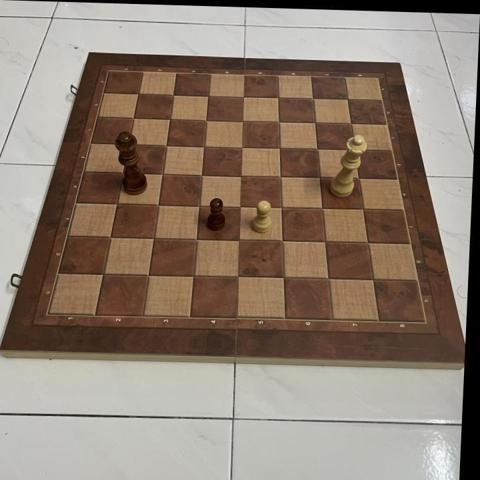xcorner: (339, 92, 355, 108), (304, 91, 320, 107), (199, 89, 215, 105), (164, 88, 180, 104), (234, 114, 250, 130), (197, 113, 213, 129), (161, 112, 177, 128), (125, 111, 141, 127), (271, 141, 287, 157), (233, 140, 249, 156), (195, 139, 211, 155), (120, 137, 136, 153), (311, 170, 327, 186), (272, 169, 288, 185), (193, 167, 209, 183), (154, 166, 170, 182), (114, 165, 130, 181), (355, 202, 371, 218), (314, 201, 330, 217), (273, 200, 289, 216), (232, 199, 248, 215), (191, 198, 207, 214), (317, 234, 333, 250), (274, 233, 290, 249), (231, 232, 247, 248), (188, 231, 204, 247), (145, 230, 161, 246), (102, 229, 118, 245), (365, 272, 381, 288), (320, 271, 336, 287), (275, 270, 291, 286), (230, 269, 246, 285), (185, 268, 201, 284), (140, 267, 156, 283), (95, 266, 111, 282), (269, 91, 285, 106), (234, 90, 250, 105), (130, 87, 145, 103), (343, 116, 358, 132), (306, 116, 322, 131), (270, 115, 286, 130), (309, 142, 325, 157), (158, 138, 173, 154), (351, 171, 366, 187), (233, 168, 248, 184), (150, 197, 165, 213), (109, 196, 124, 212), (360, 236, 376, 251), (347, 143, 362, 158)
